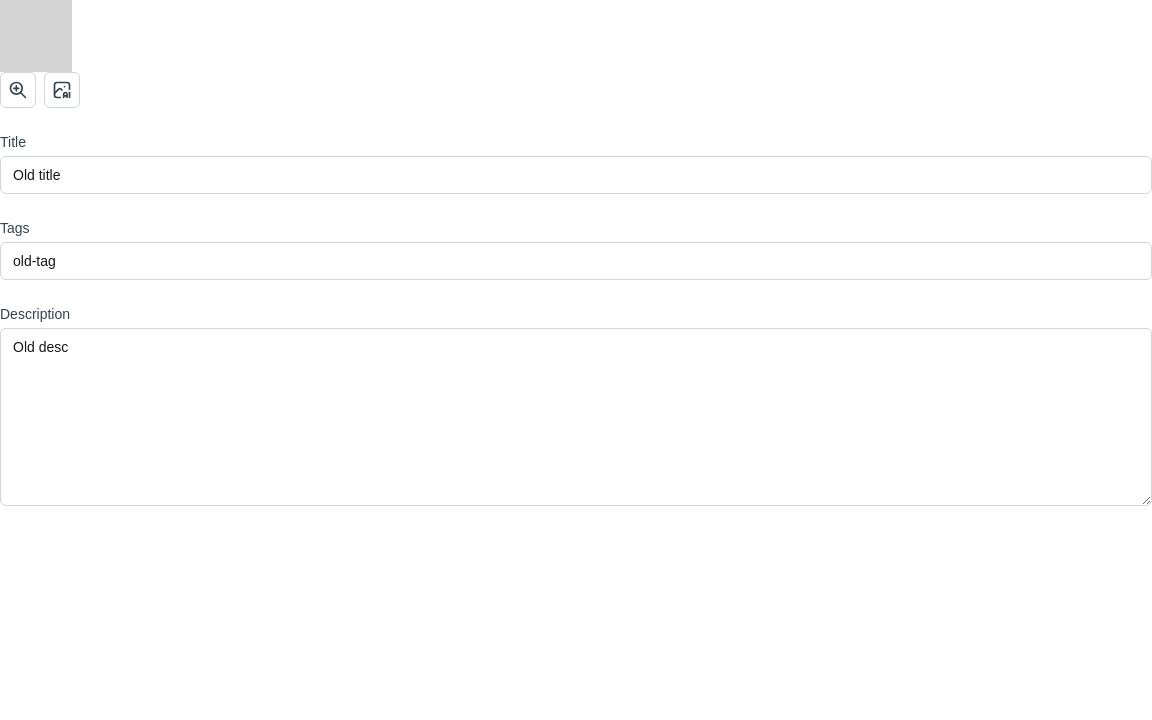
Test: ImageAiMetaSection › 确认框输出语言为站点支持的 6 项，页面语言为日语时默认 ja
Click the button named "AI recognize".
click(62, 90)  # box x1=44 y1=72 x2=80 y2=108
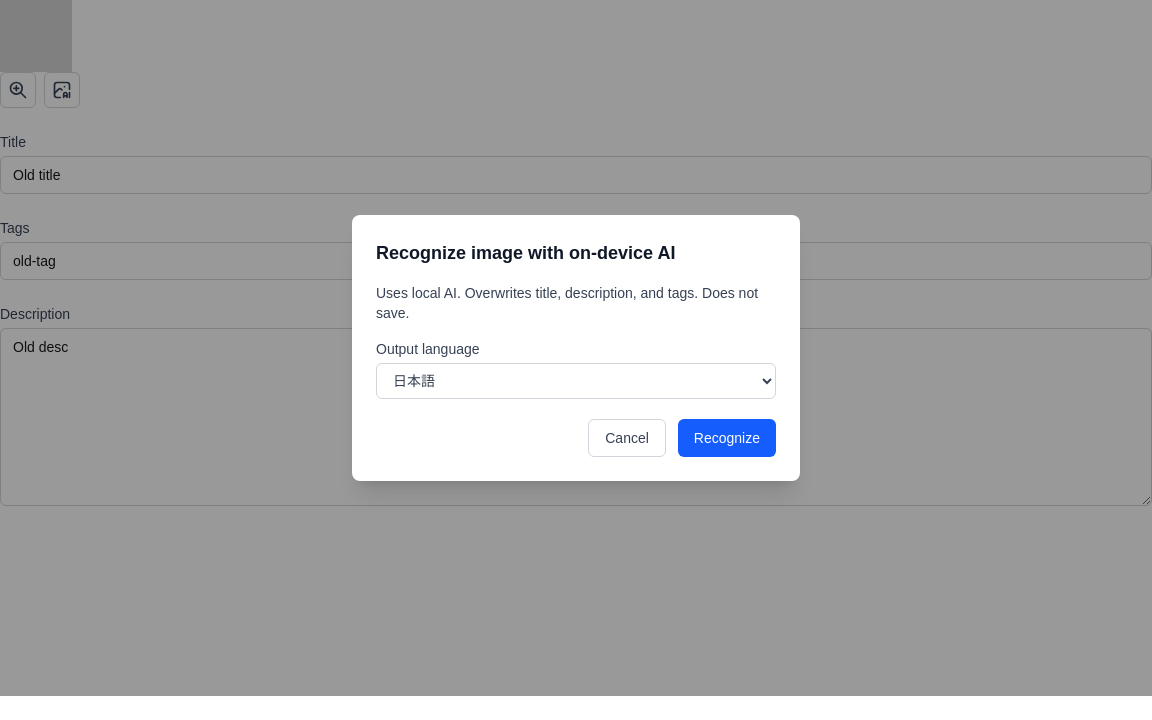
Result: the dropdown labelled "Output language" shows "日本語" at x1=376 y1=363 x2=776 y2=399
